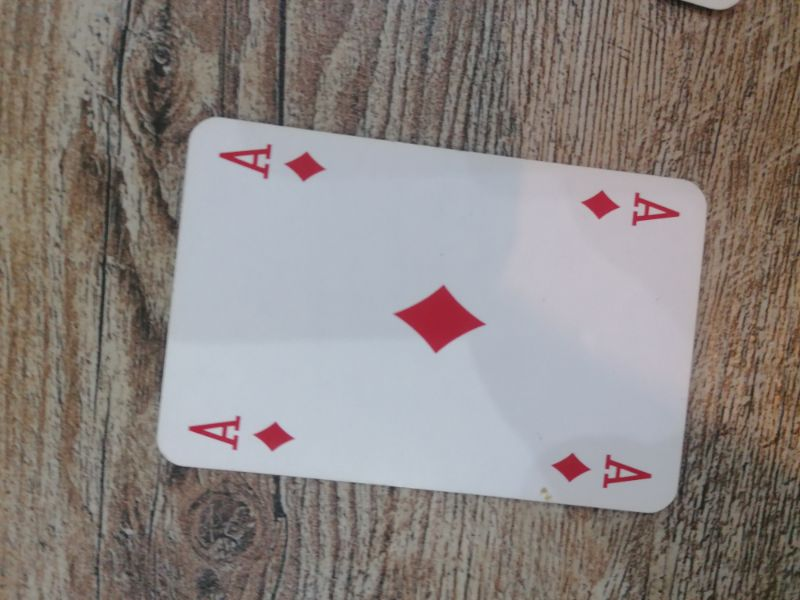Ad: (216, 140, 332, 187), (547, 447, 657, 493), (186, 413, 300, 457), (580, 185, 686, 231)
